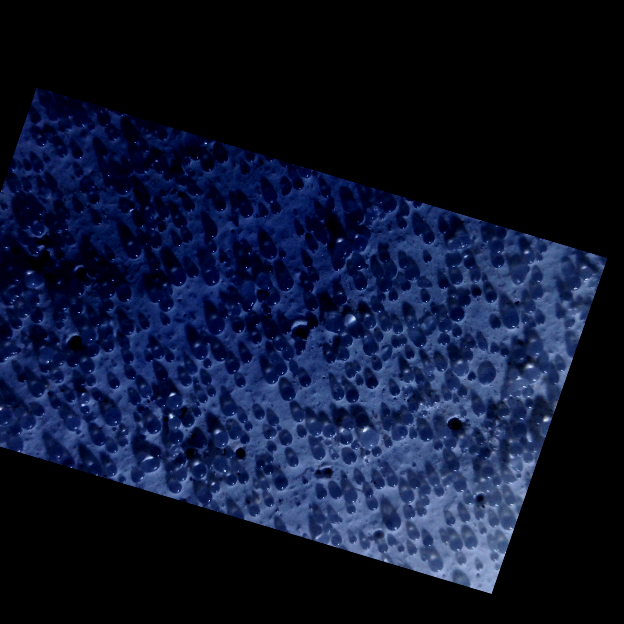GrassBeadSeg: (37, 177, 413, 553), (34, 164, 482, 469), (24, 277, 451, 547), (7, 156, 415, 437), (76, 170, 529, 407), (23, 167, 417, 439), (34, 114, 340, 461), (48, 251, 530, 460), (228, 245, 544, 553), (102, 115, 412, 415), (187, 150, 510, 416), (93, 126, 464, 357), (98, 116, 543, 300), (9, 222, 365, 452), (49, 286, 541, 448), (24, 162, 422, 361), (32, 162, 502, 330), (1, 203, 425, 388), (33, 378, 475, 549), (11, 237, 383, 440), (70, 221, 400, 447), (105, 232, 436, 454), (66, 260, 481, 431), (225, 260, 534, 486), (145, 273, 543, 446), (36, 137, 539, 272), (10, 203, 544, 329), (52, 227, 336, 453), (3, 356, 405, 511), (183, 233, 509, 418), (0, 329, 358, 497), (0, 147, 215, 426), (127, 180, 520, 330), (182, 244, 501, 428), (51, 369, 434, 519), (7, 162, 294, 361), (74, 151, 250, 472), (107, 252, 538, 383), (88, 320, 386, 505), (186, 160, 459, 361), (156, 258, 412, 470), (125, 272, 464, 429), (130, 179, 305, 480), (0, 205, 418, 329), (55, 255, 461, 382), (23, 153, 256, 374), (179, 377, 479, 547), (103, 291, 494, 421), (105, 267, 421, 426), (138, 236, 527, 362), (32, 277, 368, 417), (50, 256, 308, 438), (139, 146, 392, 330), (69, 259, 339, 428), (12, 162, 411, 276), (92, 191, 272, 422), (145, 307, 465, 435), (25, 183, 547, 253), (31, 251, 279, 396), (72, 149, 294, 291), (80, 159, 215, 380), (227, 361, 401, 531), (69, 205, 381, 297), (266, 224, 449, 380), (154, 245, 286, 455), (134, 257, 254, 482), (140, 239, 255, 473), (146, 205, 280, 398), (103, 159, 282, 302), (83, 245, 279, 374), (50, 181, 204, 342), (28, 217, 536, 264), (239, 235, 367, 421), (137, 152, 228, 400), (87, 249, 471, 307), (1, 218, 146, 367), (41, 164, 148, 363), (310, 224, 434, 395), (102, 268, 196, 493), (18, 217, 163, 359), (0, 240, 393, 291), (26, 273, 345, 332), (96, 318, 252, 435), (123, 216, 246, 354), (280, 309, 464, 401), (85, 252, 337, 318), (120, 202, 391, 263), (170, 219, 408, 287), (35, 382, 176, 493), (102, 199, 226, 311), (87, 237, 411, 278), (21, 390, 353, 430), (210, 317, 360, 403), (126, 246, 319, 312), (105, 179, 174, 363), (211, 388, 313, 510), (161, 173, 335, 241), (0, 223, 63, 408), (188, 266, 498, 303), (370, 334, 449, 478), (93, 288, 159, 458), (92, 433, 288, 490), (91, 375, 211, 467), (461, 254, 572, 352), (152, 127, 260, 219), (89, 194, 214, 272), (424, 256, 493, 397), (77, 353, 187, 435), (449, 235, 544, 329), (304, 299, 358, 464), (310, 257, 579, 289), (140, 142, 277, 203), (53, 290, 162, 366), (212, 421, 323, 493), (262, 467, 466, 506), (318, 474, 430, 545), (256, 201, 373, 267), (320, 206, 430, 276), (105, 463, 398, 488), (85, 416, 184, 483), (442, 418, 538, 487), (362, 409, 447, 482), (0, 286, 41, 434), (208, 409, 305, 469), (383, 361, 447, 450), (238, 454, 325, 518), (1, 321, 135, 362), (348, 341, 379, 514), (405, 414, 465, 501), (352, 463, 417, 543), (318, 451, 387, 524), (263, 425, 358, 474), (379, 500, 455, 561), (472, 401, 527, 485), (189, 188, 332, 217), (258, 291, 302, 382), (331, 516, 450, 549), (494, 345, 565, 400), (120, 390, 215, 431), (398, 377, 460, 439), (282, 190, 364, 235), (118, 429, 188, 480), (430, 519, 498, 571), (341, 196, 389, 269), (126, 165, 251, 193), (403, 485, 481, 527), (334, 483, 455, 510), (251, 298, 319, 344), (32, 168, 132, 196), (79, 120, 158, 155), (389, 477, 428, 547), (79, 392, 129, 446), (439, 282, 473, 361), (458, 518, 515, 564), (367, 350, 434, 389), (333, 196, 387, 244), (121, 244, 142, 365), (302, 271, 386, 301), (57, 112, 138, 143), (539, 283, 593, 329), (218, 461, 261, 516), (437, 409, 484, 458), (453, 396, 490, 458), (221, 341, 372, 356), (170, 436, 216, 484), (462, 511, 500, 569), (179, 346, 220, 399), (238, 376, 280, 427), (138, 122, 190, 163), (467, 341, 542, 369), (476, 468, 514, 519), (132, 176, 166, 231), (300, 349, 350, 386), (415, 225, 448, 281), (232, 265, 273, 307), (1, 298, 30, 357), (450, 257, 492, 297), (466, 482, 505, 523), (136, 291, 173, 333), (271, 188, 328, 215), (375, 269, 399, 333), (336, 293, 377, 329), (447, 243, 506, 268), (205, 305, 241, 345), (283, 433, 325, 466), (12, 185, 45, 227), (396, 339, 455, 361), (343, 414, 383, 446), (148, 223, 163, 307), (309, 271, 347, 304), (503, 390, 535, 428), (187, 360, 211, 407), (259, 429, 292, 463), (275, 320, 309, 353), (61, 123, 105, 148), (332, 206, 385, 226), (382, 357, 408, 397), (81, 118, 107, 158), (193, 450, 230, 478), (56, 297, 92, 324), (224, 377, 247, 417), (171, 427, 241, 439), (244, 244, 318, 255), (395, 322, 426, 347), (3, 312, 43, 331), (512, 273, 581, 284), (562, 273, 594, 296), (212, 430, 233, 463), (463, 341, 509, 356), (417, 294, 433, 337), (514, 271, 532, 309), (67, 379, 95, 403), (130, 122, 141, 183), (55, 331, 97, 344), (525, 305, 564, 319), (281, 251, 314, 266), (425, 281, 439, 314), (514, 419, 541, 436), (341, 327, 365, 346), (384, 337, 407, 356), (383, 417, 413, 431), (152, 132, 166, 162), (85, 329, 99, 356), (15, 185, 30, 209), (34, 299, 57, 312), (54, 110, 73, 125), (267, 363, 279, 383), (147, 209, 168, 220), (31, 222, 46, 236), (192, 400, 233, 405), (154, 125, 167, 140), (213, 348, 229, 360), (307, 226, 317, 245), (5, 290, 14, 306), (31, 115, 43, 125), (349, 490, 355, 509), (0, 333, 13, 340), (454, 369, 467, 376), (358, 261, 368, 270), (346, 498, 357, 505), (454, 362, 469, 367), (23, 186, 33, 193), (390, 197, 397, 206), (145, 211, 152, 219), (344, 490, 350, 499), (383, 208, 396, 212), (139, 386, 144, 396), (280, 368, 287, 375), (520, 277, 526, 285), (163, 209, 169, 216), (278, 362, 286, 367), (179, 399, 184, 407), (512, 280, 520, 285), (169, 396, 172, 406), (173, 406, 178, 409), (171, 394, 178, 396)
